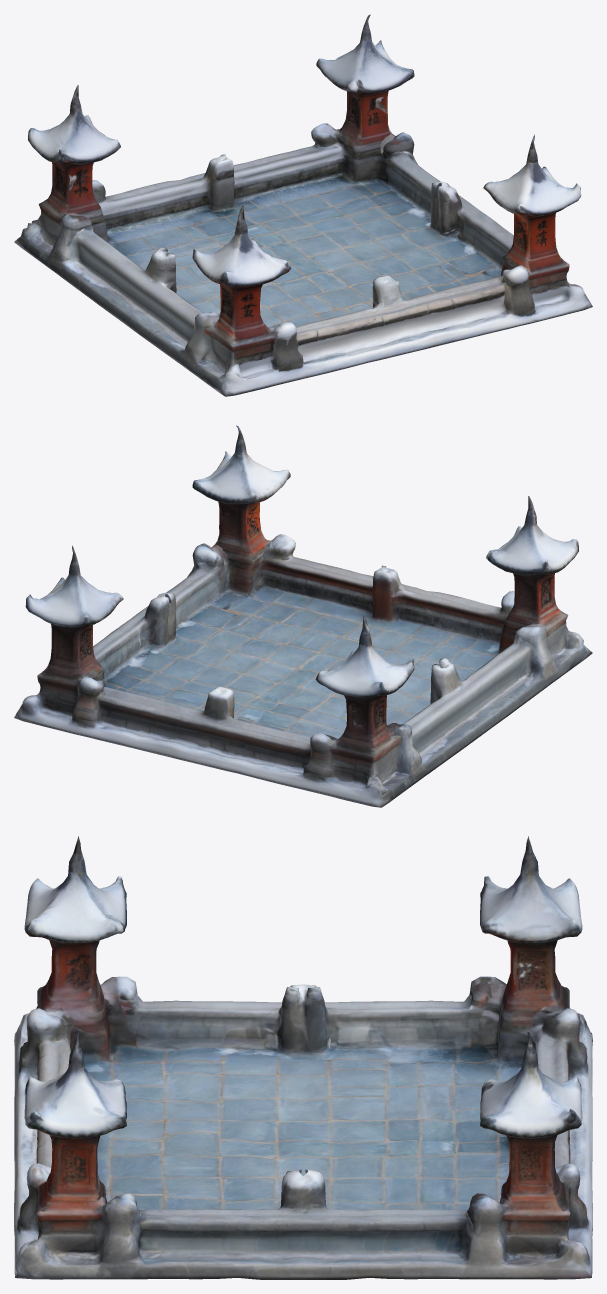
Rendered from patio.glb.
3 renders of one model, top to bottom at view 1: azimuth 30°, elevation 25°; view 2: azimuth 150°, elevation 25°; view 3: azimuth 270°, elevation 25°, orthographic. The views are drawn at different scales.
Bounding box in the file's own units: 1.98 × 0.8541 × 1.98.
1 material, 1 textured.
